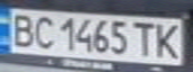1: (54, 15, 78, 52)
4: (72, 16, 96, 53)
5: (109, 17, 133, 56)
6: (90, 17, 112, 55)
B: (6, 11, 39, 48)
C: (30, 13, 57, 51)
K: (151, 20, 187, 61)
T: (130, 19, 157, 57)
